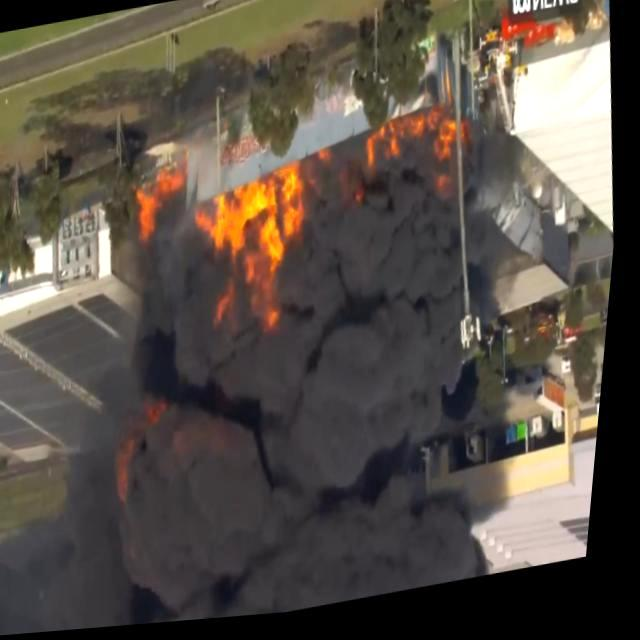fire: (190, 170, 326, 350), (358, 126, 409, 176), (426, 121, 464, 179)
